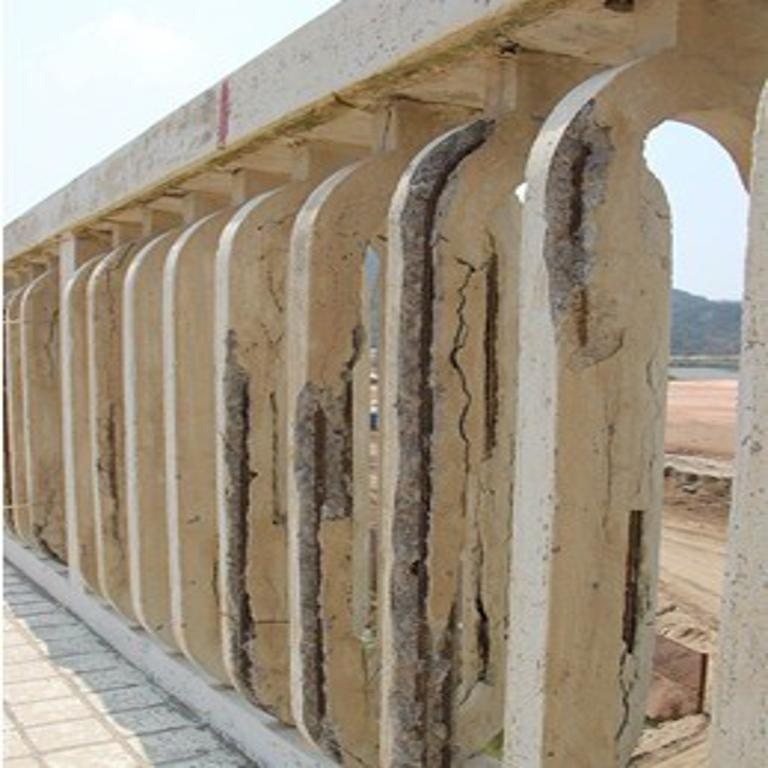exposed_rebar: (568, 144, 591, 346), (483, 252, 500, 454), (622, 510, 644, 652), (314, 408, 326, 523)
spalling: (380, 118, 492, 767), (291, 378, 352, 736), (544, 99, 624, 369), (219, 351, 252, 690)
